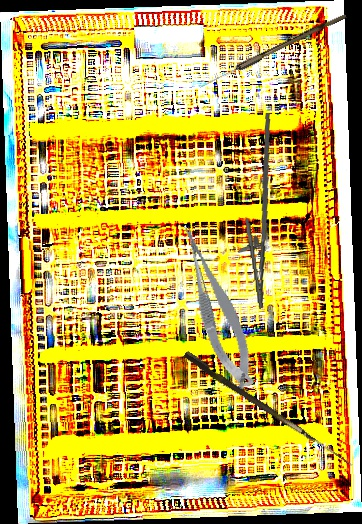Hook Surgical: (181, 350, 358, 467)
Micro Scissor: (176, 217, 260, 397)
Needle Holder: (226, 112, 288, 311)
Surgical Spoon: (198, 10, 347, 92)
